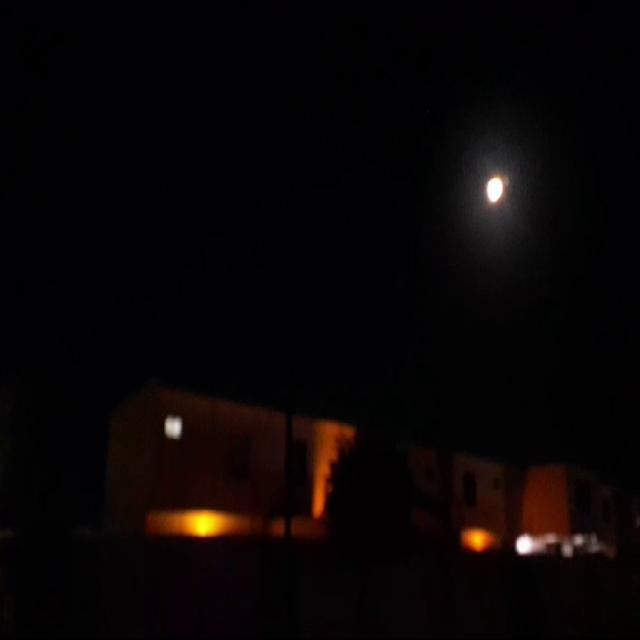moon: (482, 174, 505, 208)
